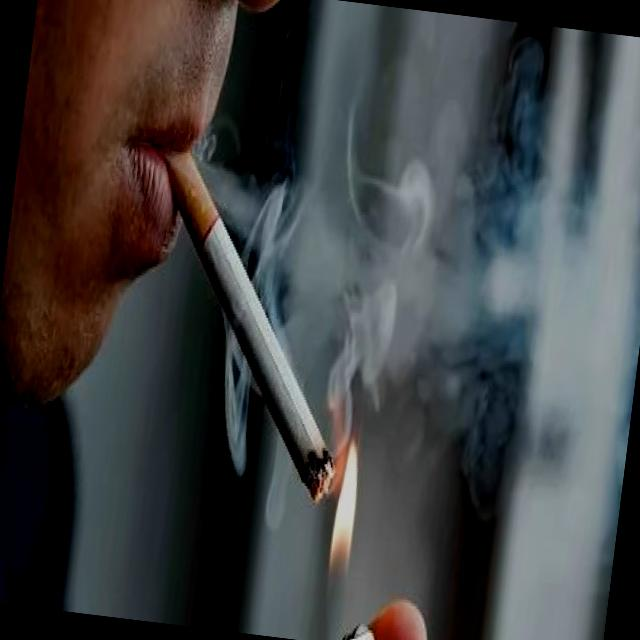cigarette: (121, 144, 376, 510)
